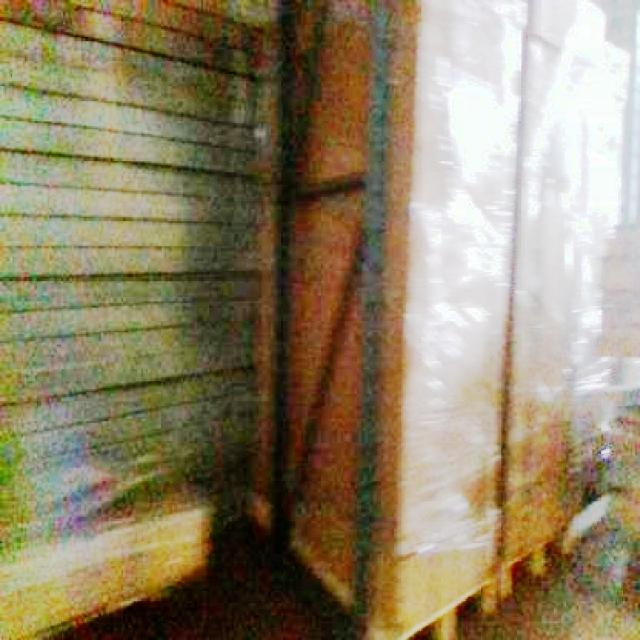ground: (0, 495, 638, 638)
pallet: (271, 0, 637, 638), (594, 0, 638, 637)
